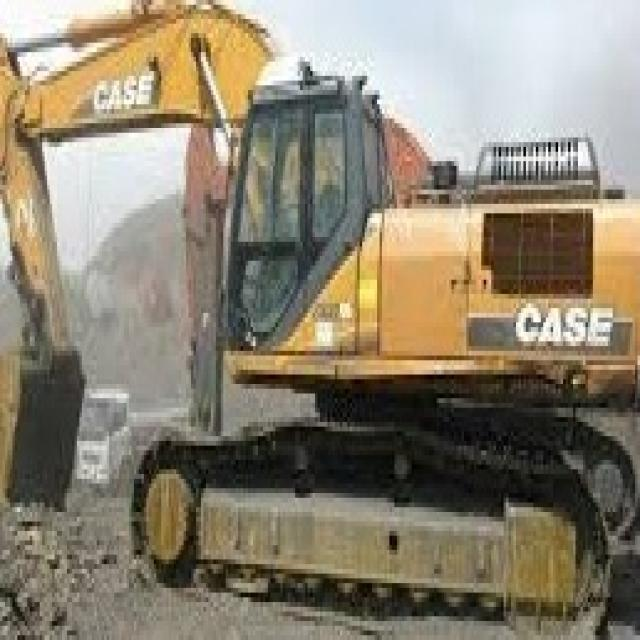excavator: (191, 62, 634, 640)
